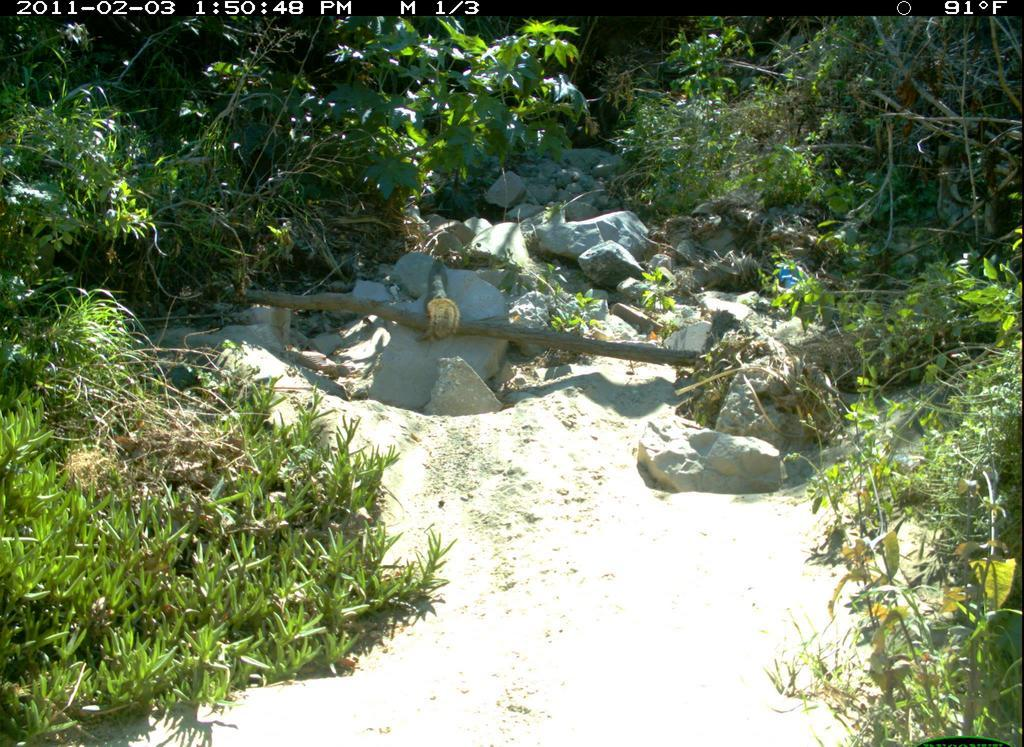squirrel: (417, 255, 486, 358)
